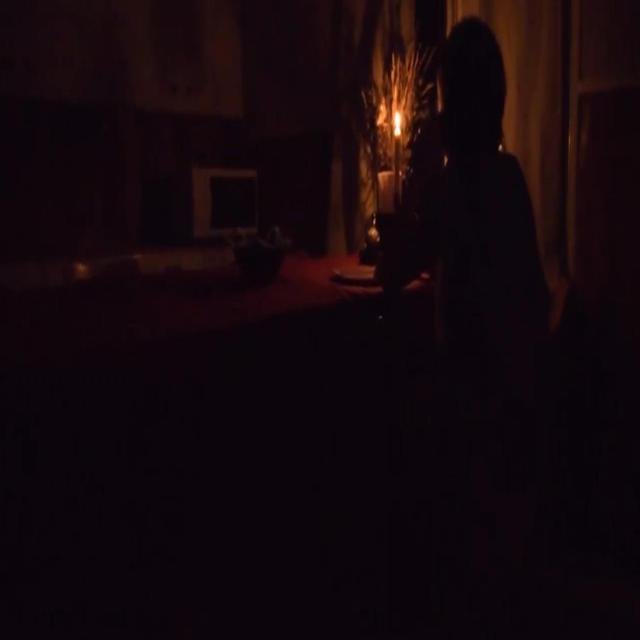smoke: (393, 108, 402, 132)
